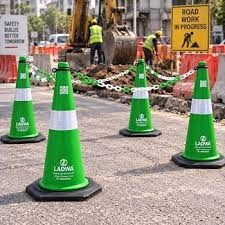hardhat: (88, 18, 98, 23), (156, 30, 162, 38)
person: (82, 17, 110, 67), (139, 27, 166, 67)
safety_cone: (43, 62, 87, 197), (175, 60, 224, 166), (3, 56, 46, 146), (128, 58, 158, 136)
safety_vest: (86, 26, 104, 46), (142, 33, 157, 56)
